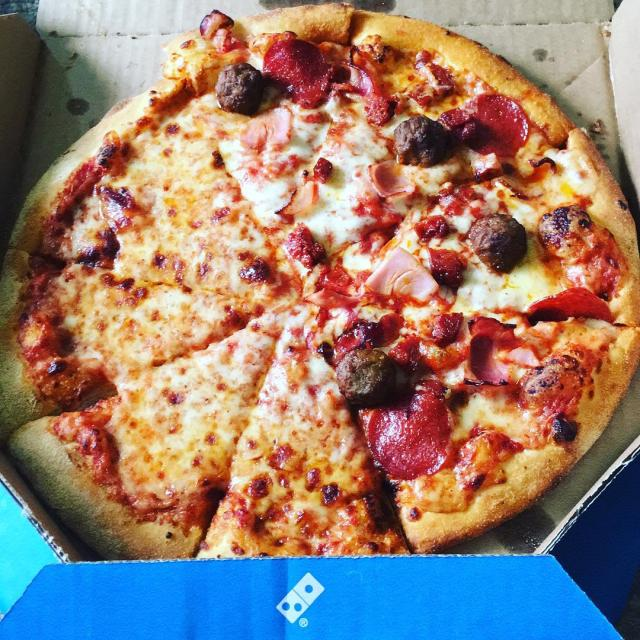pizza: (1, 4, 640, 559)
